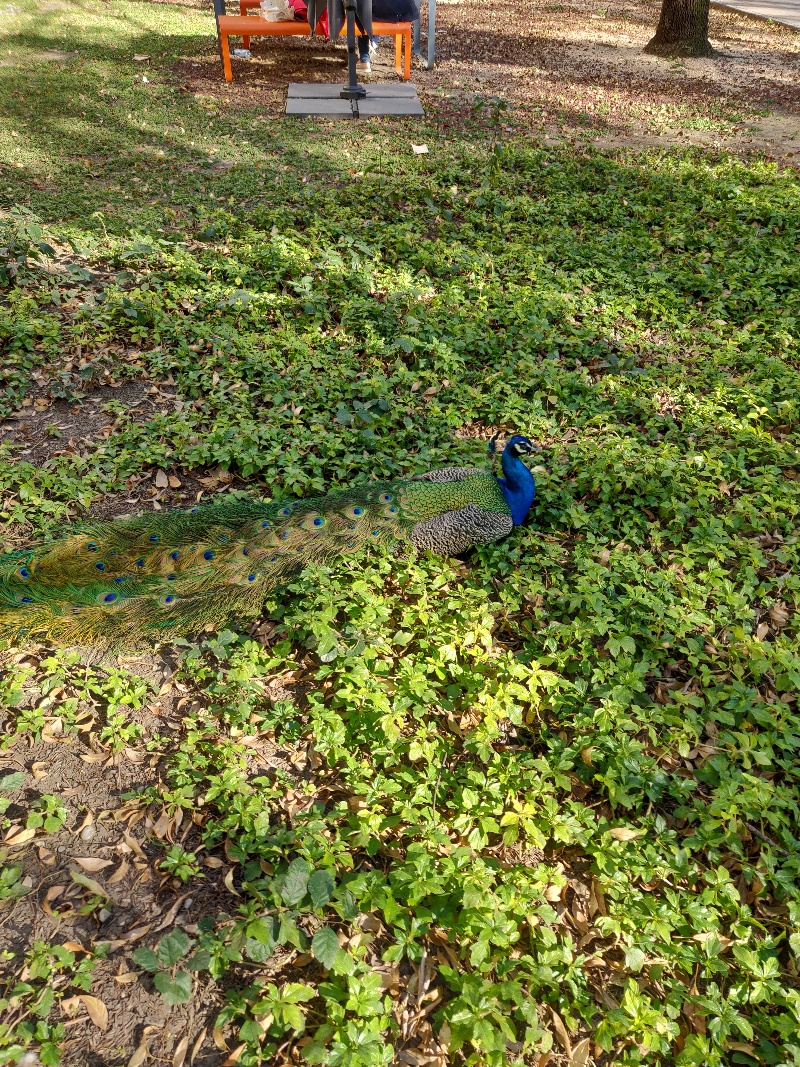pavoreal: (318, 434, 541, 554)
